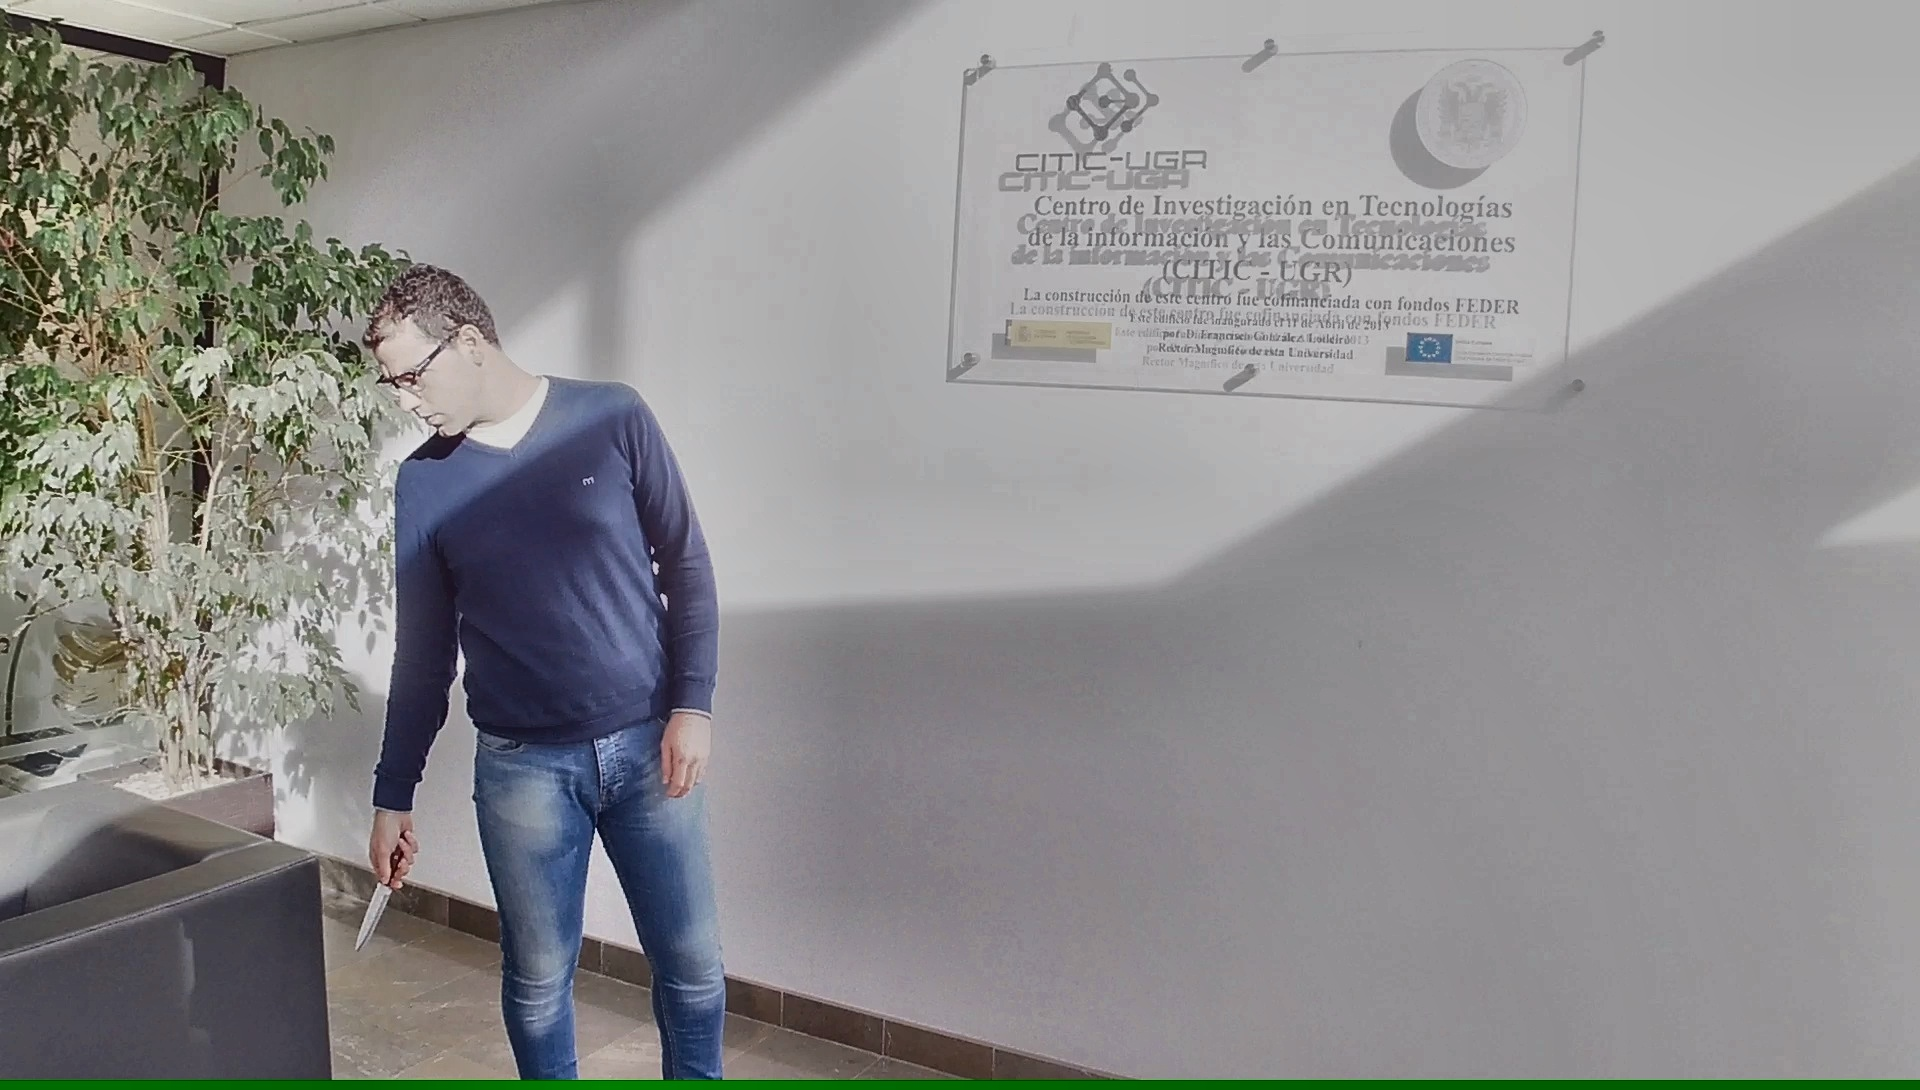knife: (348, 822, 421, 961)
